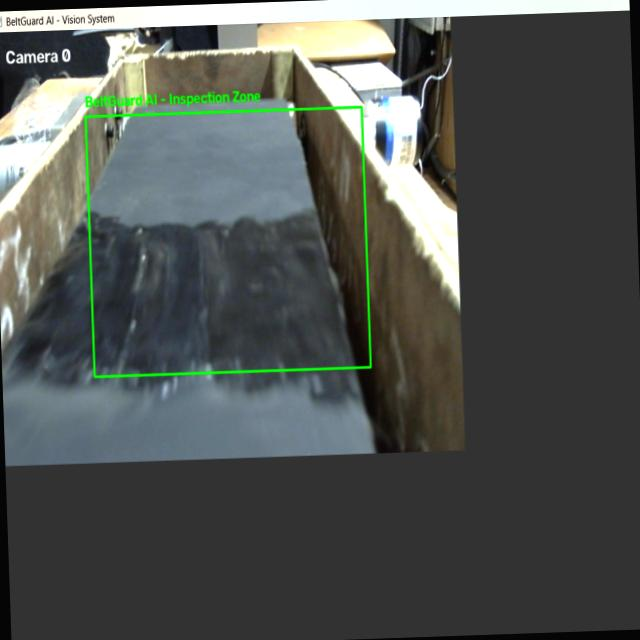Joint_Damage: (91, 212, 353, 373), (134, 254, 354, 372)
